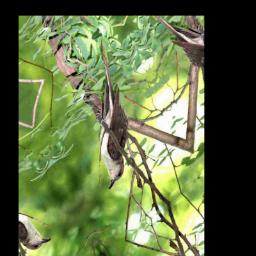Cuckoo: (51, 39, 160, 191)
